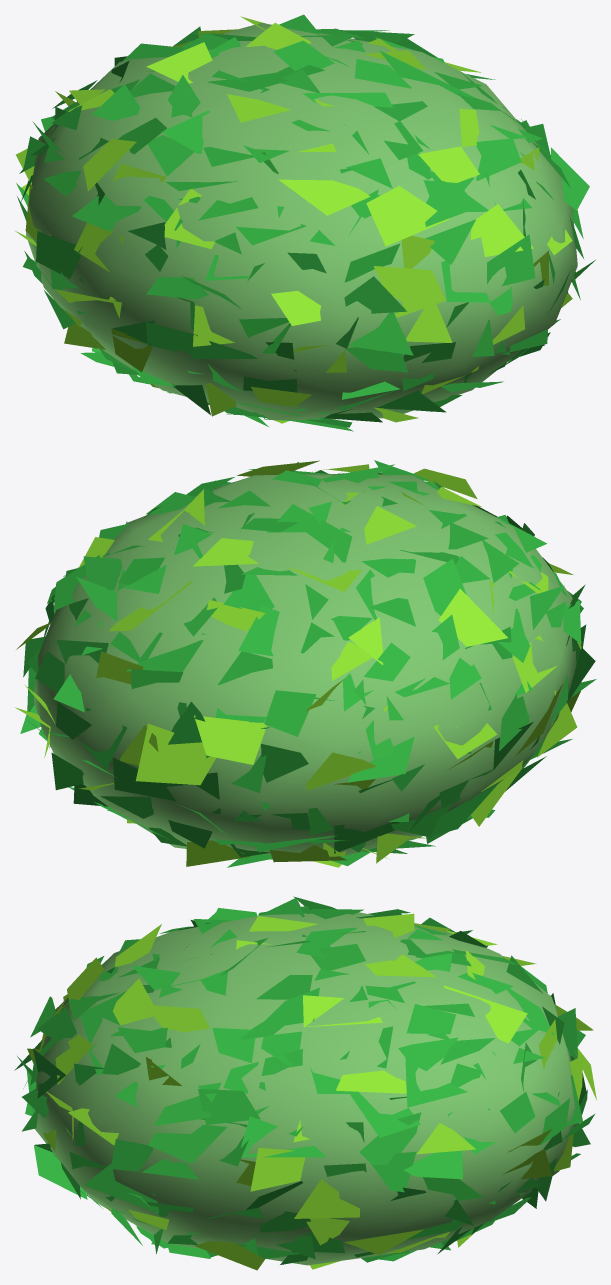
The model's file is bush_3.fbx.
The picture shows the model from 3 angles, top to bottom: view 1: azimuth 30°, elevation 25°; view 2: azimuth 150°, elevation 25°; view 3: azimuth 270°, elevation 25°; orthographic projection. The views are drawn at different scales.
Parts seen in each view (by area): view 1: Cube.002; view 2: Cube.002; view 3: Cube.002.
Boxes of the visible parts, left/top/right/bottom form: Cube.002: left=15, top=14, right=595, bottom=431; Cube.002: left=15, top=460, right=596, bottom=867; Cube.002: left=14, top=896, right=596, bottom=1270.
Bounding box in the file's own units: 236 × 149 × 268.
